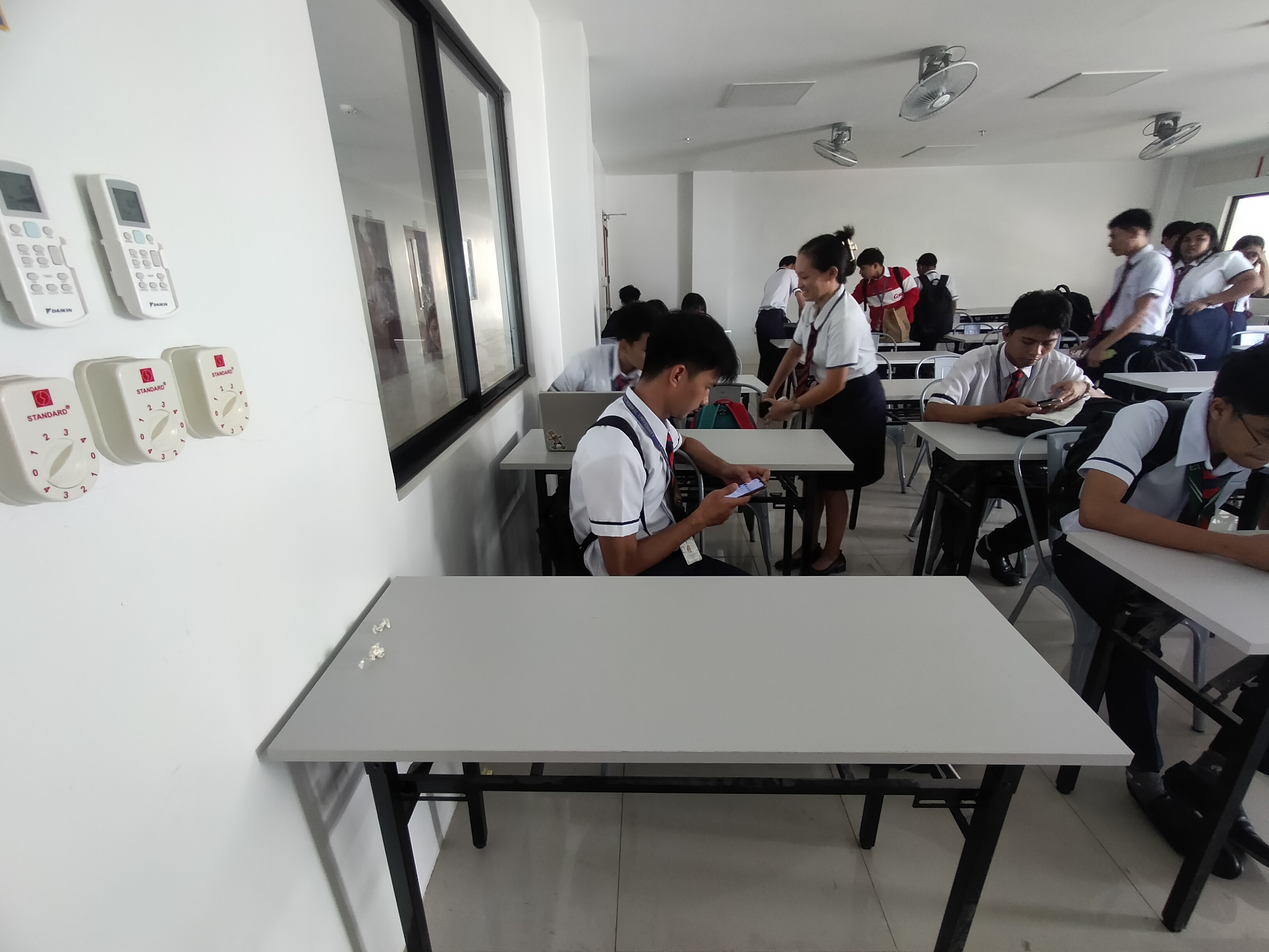with-student: (275, 288, 1137, 844), (1050, 345, 1269, 771), (492, 287, 856, 507), (903, 289, 1174, 495)
